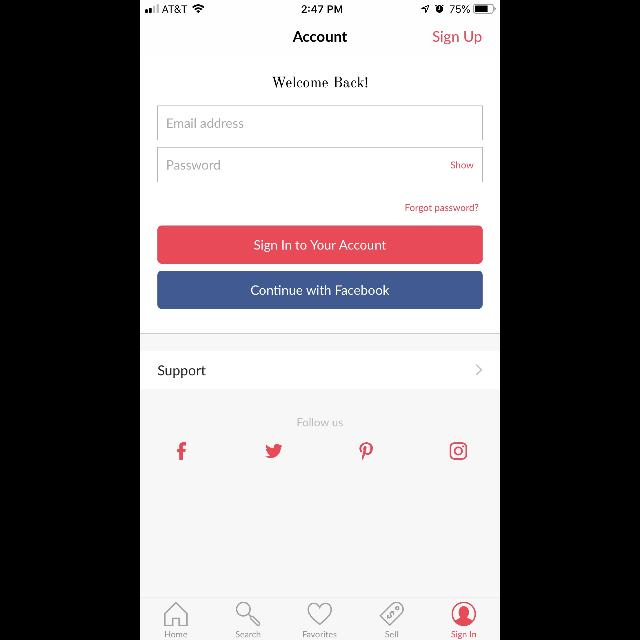icon: (164, 602, 188, 626), (236, 602, 260, 626), (308, 602, 332, 626), (380, 602, 404, 626), (452, 602, 476, 626), (449, 442, 466, 460), (266, 444, 282, 458), (178, 442, 186, 460), (476, 364, 482, 376)
image: (360, 442, 372, 460)
input: (158, 106, 482, 140), (158, 148, 482, 182)
text: (272, 76, 368, 88), (168, 118, 244, 128), (432, 31, 482, 45), (406, 204, 478, 212), (158, 366, 206, 378), (293, 32, 347, 42), (168, 160, 220, 170), (298, 418, 342, 426), (304, 630, 336, 638), (452, 631, 476, 639), (236, 631, 260, 637), (451, 162, 474, 168), (166, 631, 188, 637), (384, 631, 398, 637)
textbutton: (158, 226, 482, 264), (158, 271, 482, 309)
uppertaskbar: (140, 0, 500, 14)
